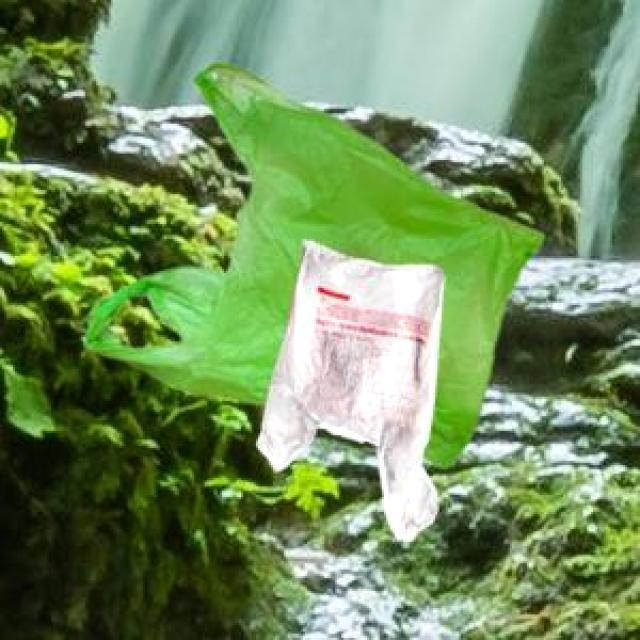Plastic_Bag: (82, 61, 541, 464), (252, 236, 440, 538)
